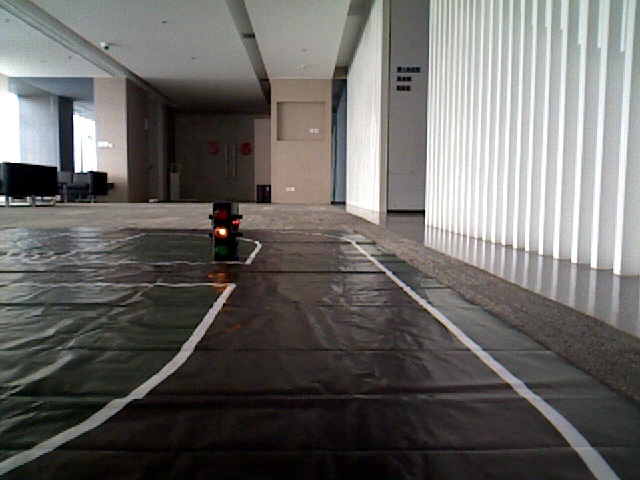yellow: (212, 202, 235, 260)
